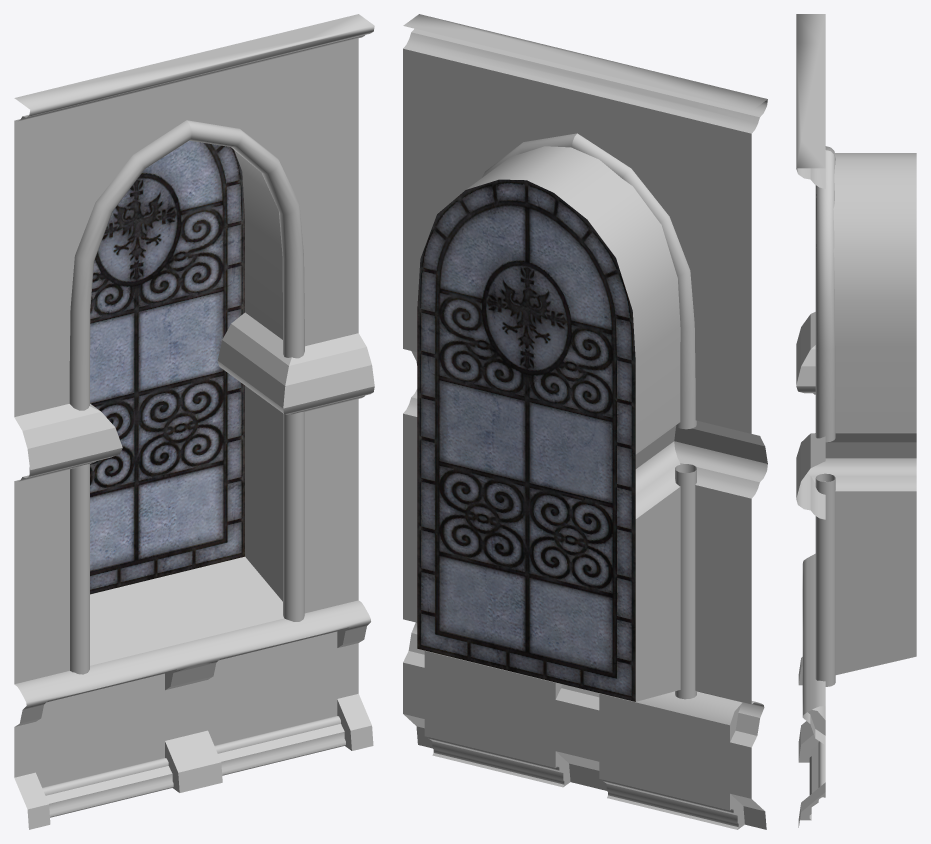
Rendered from window_large_blue.dae.
3 renders of one model, left to right at view 1: azimuth 30°, elevation 25°; view 2: azimuth 150°, elevation 25°; view 3: azimuth 270°, elevation 25°, orthographic. The views are drawn at different scales.
Parts seen in each view (by area): view 1: polySurface145, polySurface134, polySurface158, polySurface159, polySurface140, polySurface141, polySurface139, polySurface143, polySurface142, polySurface149; view 2: polySurface134, polySurface145, polySurface158, polySurface159, polySurface139, polySurface140, polySurface141, polySurface142, polySurface147; view 3: polySurface139, polySurface140, polySurface145, polySurface158, polySurface141, polySurface143, polySurface150, polySurface149, polySurface148.
Boxes of the visible parts, x1,y1,x2,y2 form: polySurface145: [14, 14, 374, 470]; polySurface134: [90, 140, 244, 594]; polySurface158: [14, 386, 374, 829]; polySurface159: [14, 631, 358, 787]; polySurface140: [29, 385, 284, 665]; polySurface141: [69, 120, 304, 410]; polySurface139: [234, 150, 282, 339]; polySurface143: [283, 412, 304, 621]; polySurface142: [70, 464, 89, 674]; polySurface149: [217, 312, 291, 408]; polySurface134: [417, 179, 635, 701]; polySurface145: [403, 14, 767, 463]; polySurface158: [403, 389, 767, 829]; polySurface159: [403, 651, 751, 810]; polySurface139: [466, 146, 680, 454]; polySurface140: [635, 487, 680, 701]; polySurface141: [482, 133, 696, 429]; polySurface142: [675, 464, 696, 699]; polySurface147: [635, 441, 680, 518]; polySurface139: [833, 153, 916, 432]; polySurface140: [835, 491, 916, 675]; polySurface145: [796, 14, 825, 497]; polySurface158: [796, 473, 825, 827]; polySurface141: [815, 146, 835, 442]; polySurface143: [815, 473, 835, 686]; polySurface150: [807, 458, 916, 491]; polySurface149: [825, 432, 916, 458]; polySurface148: [796, 345, 815, 386].
Size of what is drawn, in the model's own units: 400 by 800 by 132.
